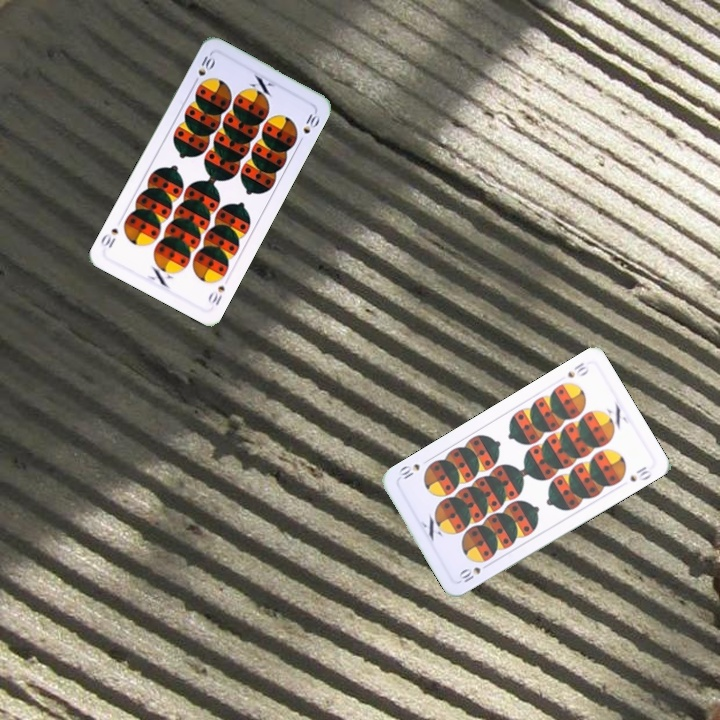S10: (189, 50, 218, 87), (563, 358, 592, 380), (455, 563, 483, 585), (204, 282, 227, 308)
